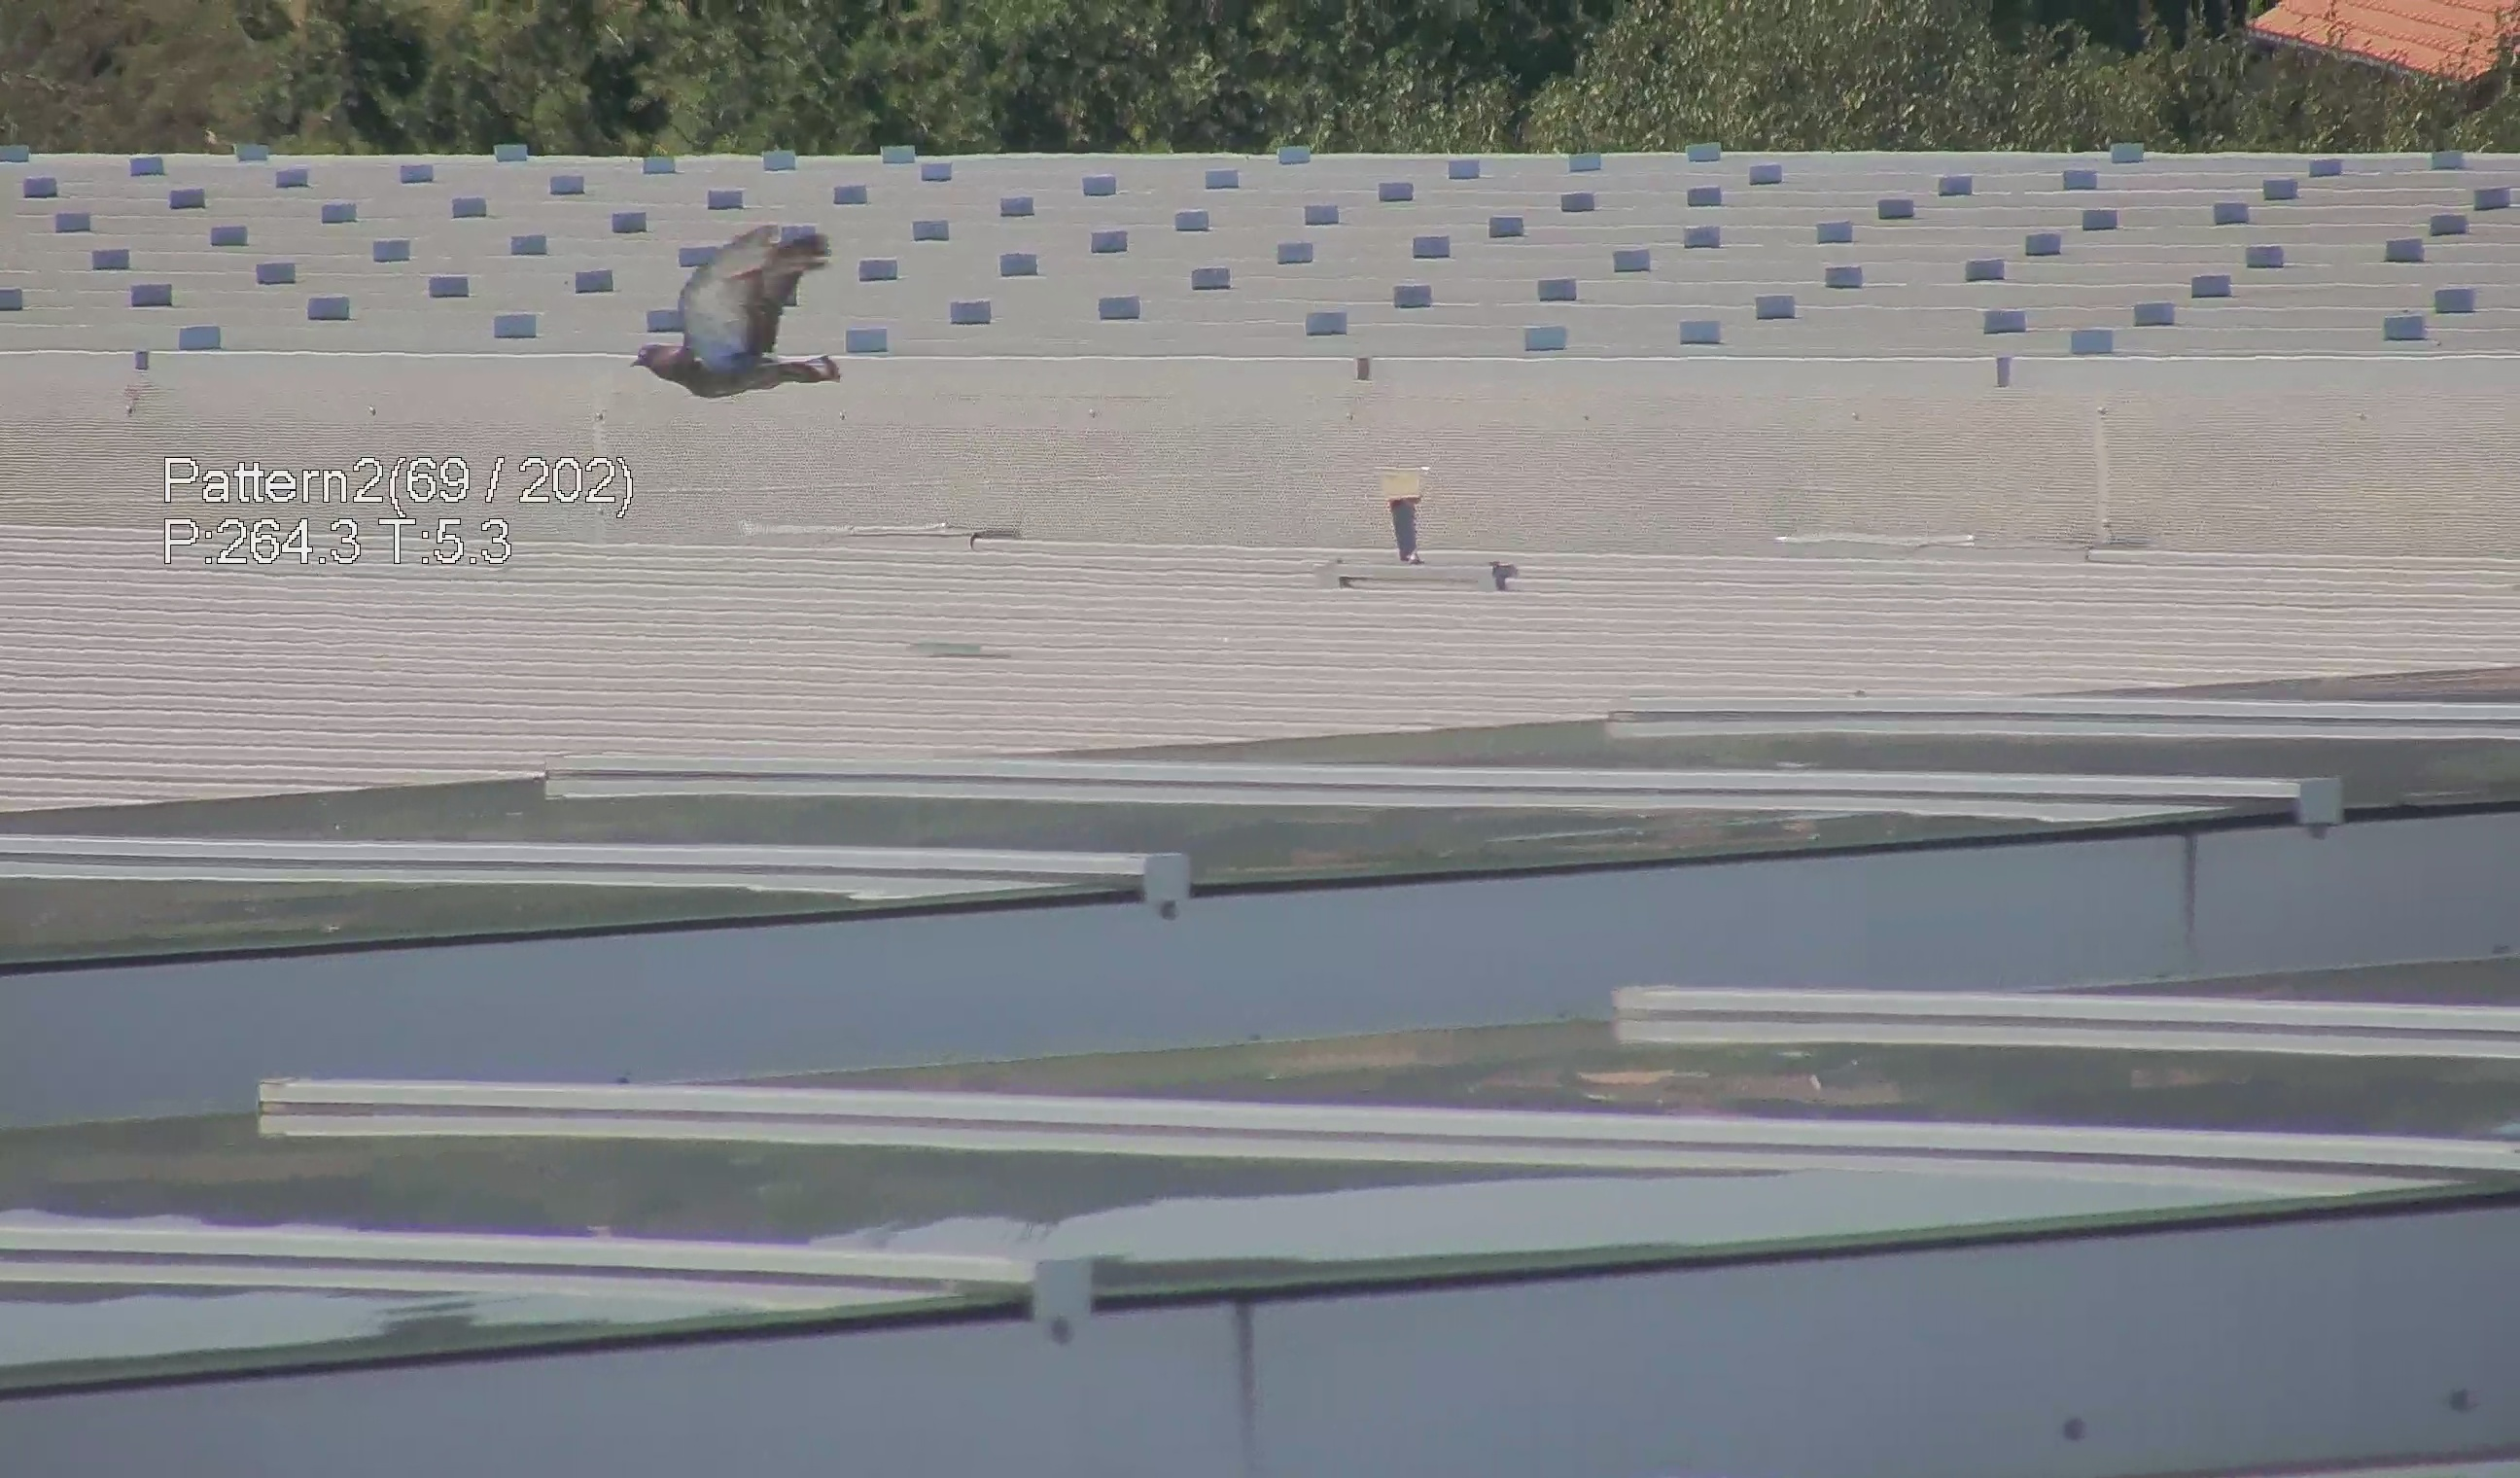Pigeon: (617, 204, 835, 405)
